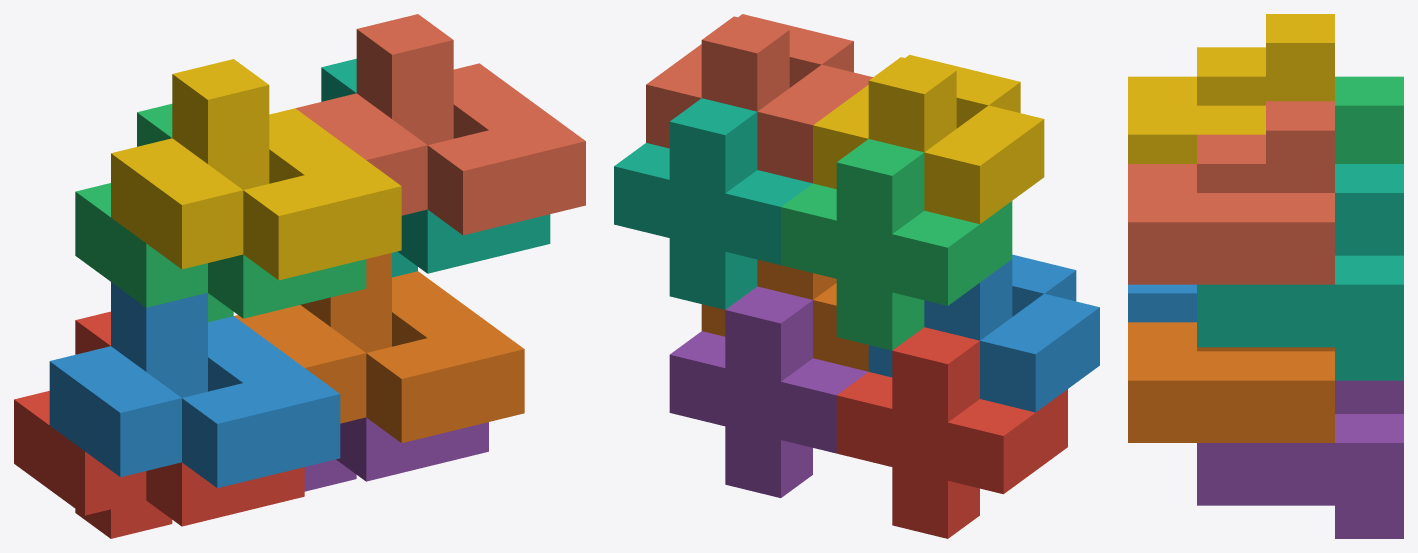
Rendered from tiling.obj.
The picture shows the model from 3 angles, left to right: view 1: azimuth 30°, elevation 25°; view 2: azimuth 150°, elevation 25°; view 3: azimuth 270°, elevation 25°; orthographic projection. The views are drawn at different scales.
Visible parts, largest first — view 1: copy_1_domain_4, copy_1_domain_2, copy_1_domain_8, copy_1_domain_6, copy_1_domain_1, copy_1_domain_3, copy_1_domain_7, copy_1_domain_5; view 2: copy_1_domain_3, copy_1_domain_1, copy_1_domain_7, copy_1_domain_5, copy_1_domain_4, copy_1_domain_8, copy_1_domain_2, copy_1_domain_6; view 3: copy_1_domain_8, copy_1_domain_7, copy_1_domain_6, copy_1_domain_5, copy_1_domain_4, copy_1_domain_3, copy_1_domain_2.
Part boxes in pixels (x1,y1,x2,y2): copy_1_domain_4: [111, 59, 401, 280]; copy_1_domain_2: [49, 282, 340, 488]; copy_1_domain_8: [295, 14, 585, 235]; copy_1_domain_6: [234, 253, 524, 443]; copy_1_domain_1: [14, 311, 304, 538]; copy_1_domain_3: [75, 104, 366, 322]; copy_1_domain_7: [321, 58, 550, 277]; copy_1_domain_5: [304, 417, 488, 491]; copy_1_domain_3: [781, 139, 1012, 350]; copy_1_domain_1: [836, 327, 1067, 538]; copy_1_domain_7: [614, 98, 812, 309]; copy_1_domain_5: [669, 286, 868, 497]; copy_1_domain_4: [813, 54, 1044, 223]; copy_1_domain_8: [646, 14, 872, 183]; copy_1_domain_2: [868, 254, 1099, 412]; copy_1_domain_6: [701, 259, 868, 371]; copy_1_domain_8: [1128, 101, 1334, 284]; copy_1_domain_7: [1197, 164, 1403, 380]; copy_1_domain_6: [1128, 322, 1334, 442]; copy_1_domain_5: [1197, 380, 1403, 538]; copy_1_domain_4: [1128, 14, 1334, 163]; copy_1_domain_3: [1335, 76, 1403, 163]; copy_1_domain_2: [1128, 284, 1196, 322].
Bounding box in the file's own units: 7 × 7 × 4.
